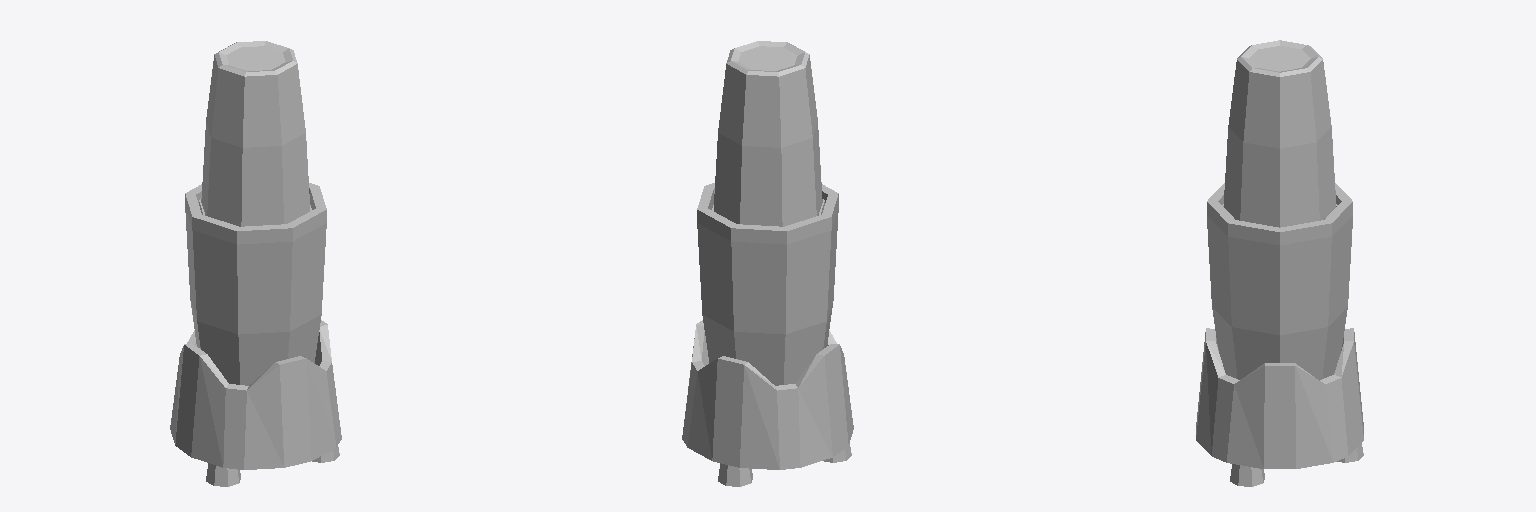
Rendered from appliance_blender_bullet.obj.
The picture shows the model from 3 angles: view 1: azimuth 30°, elevation 25°; view 2: azimuth 150°, elevation 25°; view 3: azimuth 270°, elevation 25°; orthographic projection.
Visible parts, largest first — view 1: appliance_blender_bullet.001_Cylinder.132, appliance_blender_bullet_container_Cylinder.133; view 2: appliance_blender_bullet.001_Cylinder.132, appliance_blender_bullet_container_Cylinder.133; view 3: appliance_blender_bullet.001_Cylinder.132, appliance_blender_bullet_container_Cylinder.133.
Boxes of the visible parts, x1,y1,x2,y2 form: appliance_blender_bullet.001_Cylinder.132: [170, 183, 341, 486]; appliance_blender_bullet_container_Cylinder.133: [201, 41, 309, 226]; appliance_blender_bullet.001_Cylinder.132: [682, 183, 853, 486]; appliance_blender_bullet_container_Cylinder.133: [714, 41, 822, 226]; appliance_blender_bullet.001_Cylinder.132: [1196, 183, 1363, 486]; appliance_blender_bullet_container_Cylinder.133: [1224, 40, 1335, 227].
Bounding box in the file's own units: 2.15 × 5.63 × 2.15.